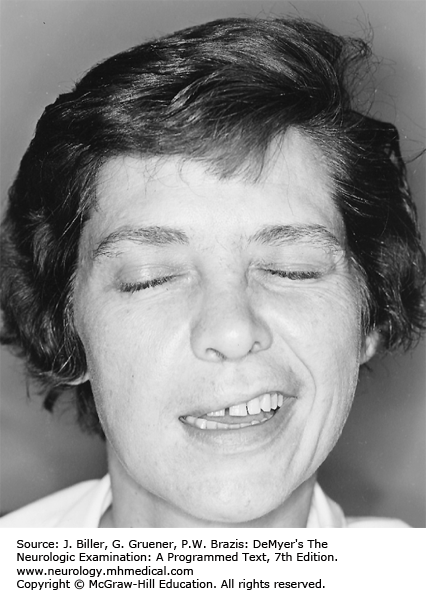stroke: (103, 158, 338, 502)
